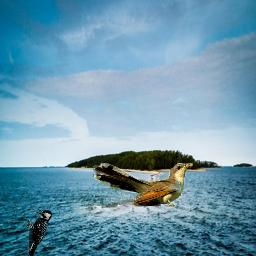Cuckoo: (93, 163, 193, 207)
Woodpecker: (25, 208, 53, 256)
